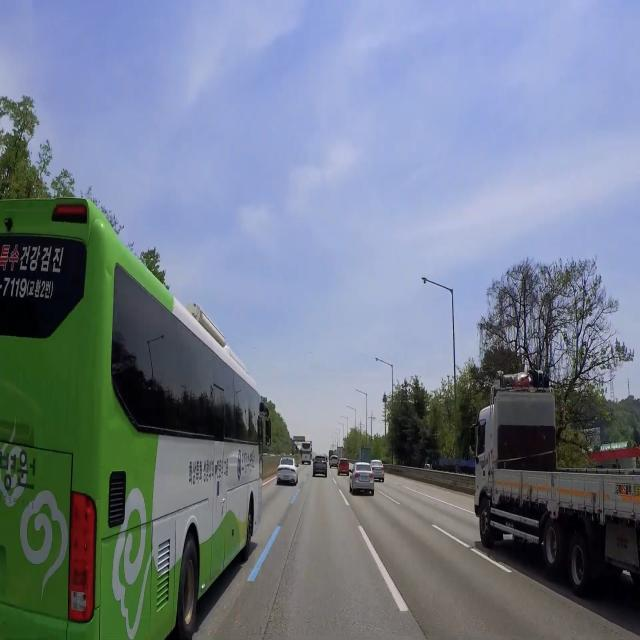car: (358, 472, 371, 486), (282, 475, 291, 483), (374, 469, 383, 476)
